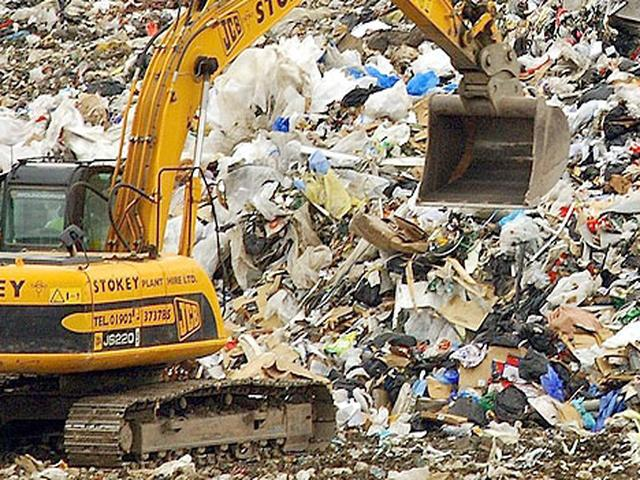garbage: (224, 107, 396, 369), (410, 244, 629, 405)
